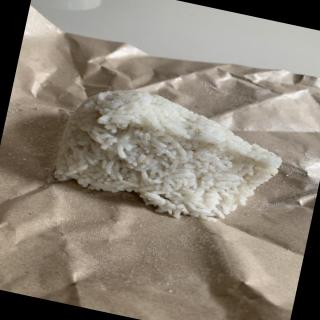Nasi: (49, 76, 286, 233)
